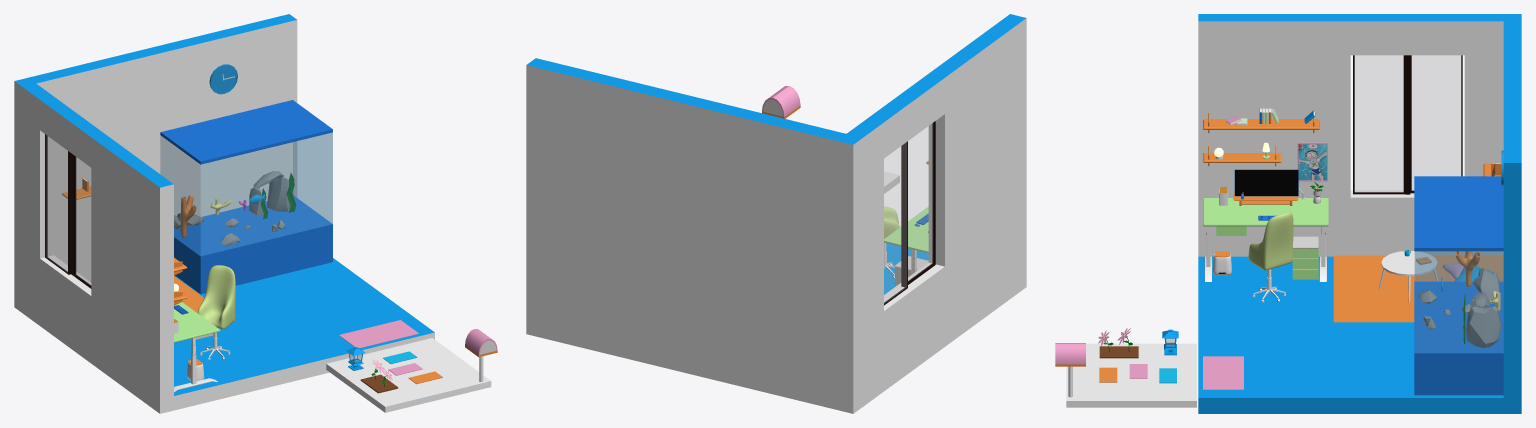
File: room.glb
3 renders of one model, left to right at view 1: azimuth 30°, elevation 25°; view 2: azimuth 150°, elevation 25°; view 3: azimuth 270°, elevation 25°, orthographic. The views are drawn at different scales.
Parts seen in each view (by area): view 1: 墙, 立方体.013, 鱼缸玻璃, 立方体.022, 窗户, 立方体, 平面.003, 桌面, rock.004, 柱体.012, 柱体.013, 平面.002; view 2: 墙, 窗户, 桌面, 柱体.013; view 3: 墙, 立方体.013, 窗户, 鱼缸玻璃, 立方体.022, 平面.002, 桌面, 立方体, 显示器屏幕, 平面.003, rock.004, 柱体.015 (+9 smaller).
Boxes of the visible parts, <box> form: 墙: <box>14,14,434,413</box>; 立方体.013: <box>160,100,332,294</box>; 鱼缸玻璃: <box>160,132,332,255</box>; 立方体.022: <box>326,338,491,412</box>; 窗户: <box>45,134,91,288</box>; 立方体: <box>197,265,235,328</box>; 平面.003: <box>339,320,419,348</box>; 桌面: <box>174,302,220,342</box>; rock.004: <box>267,171,293,211</box>; 柱体.012: <box>209,64,237,94</box>; 柱体.013: <box>465,329,497,357</box>; 平面.002: <box>90,276,235,321</box>; 墙: <box>526,14,1026,413</box>; 窗户: <box>884,121,935,305</box>; 桌面: <box>884,206,928,253</box>; 柱体.013: <box>762,86,800,118</box>; 墙: <box>1198,14,1521,413</box>; 立方体.013: <box>1414,176,1503,395</box>; 窗户: <box>1353,55,1462,194</box>; 鱼缸玻璃: <box>1414,251,1503,352</box>; 立方体.022: <box>1066,343,1196,407</box>; 平面.002: <box>1333,255,1503,322</box>; 桌面: <box>1203,198,1328,226</box>; 立方体: <box>1248,212,1293,270</box>; 显示器屏幕: <box>1235,170,1298,195</box>; 平面.003: <box>1203,356,1243,389</box>; rock.004: <box>1466,306,1500,347</box>; 柱体.015: <box>1378,251,1437,302</box>.
Bounding box in the file's own units: 19.93 × 15.68 × 26.36.
42 materials, 2 textured.
